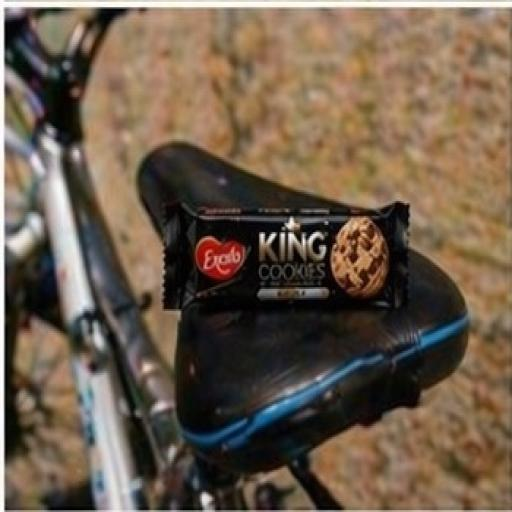king_cooking: (126, 149, 454, 359)
